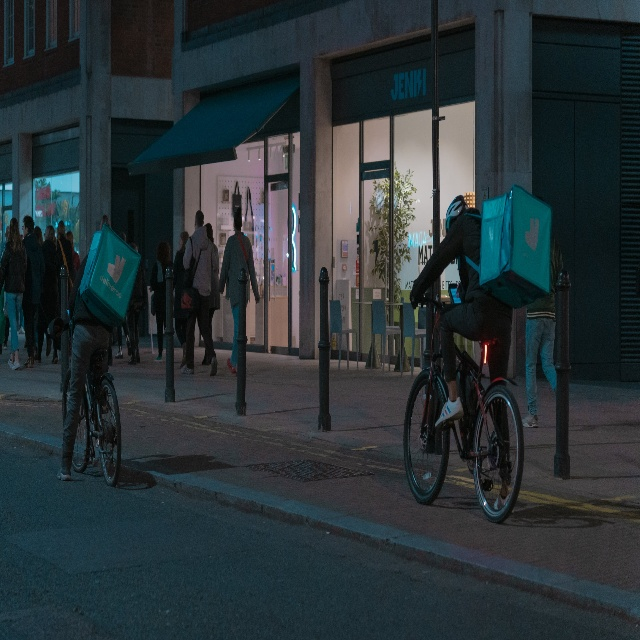Guantes: (409, 289, 426, 312), (457, 282, 465, 299)
